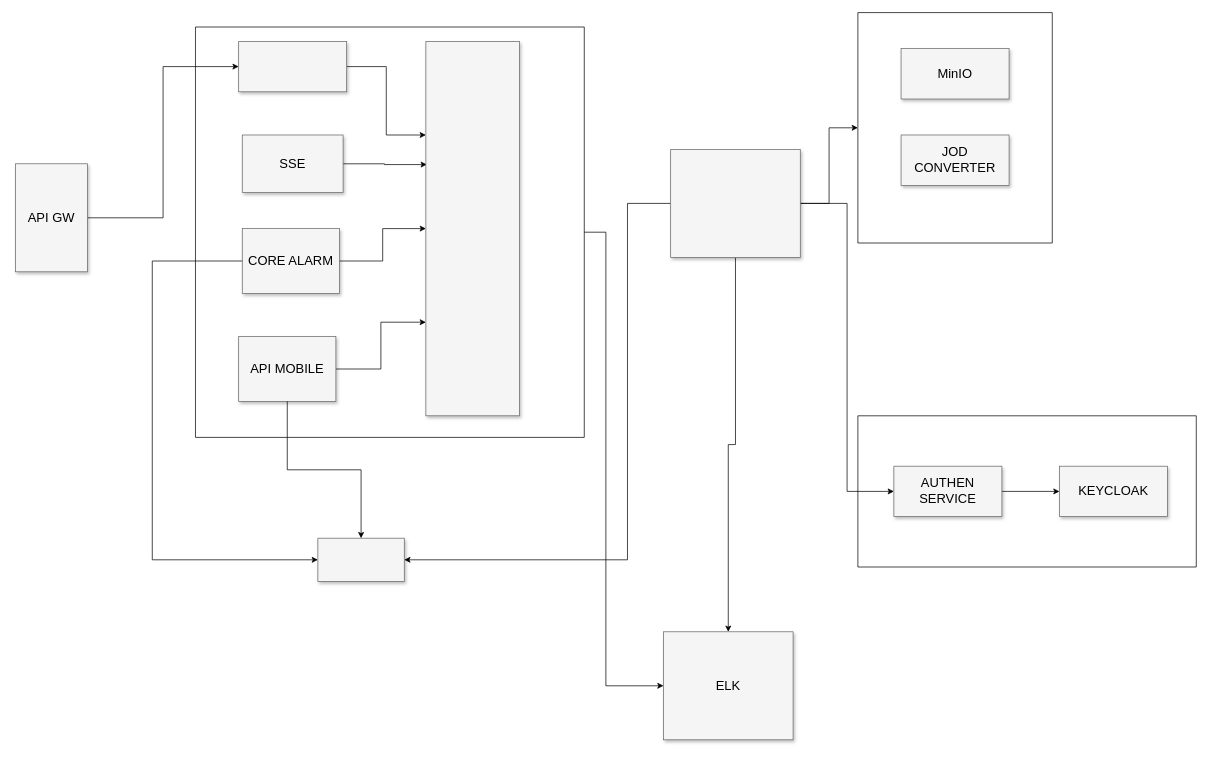
Some shapes in this 1209 by 757 pixel diagram are drawn without their labels. The centre of each missing label's shape, as x and y in pixels:
API BUSINESS: the point at 736,204
DATABASE: the point at 361,560
EVENT API: the point at 293,67
KAFKA ZOOKEEPER: the point at 473,229
